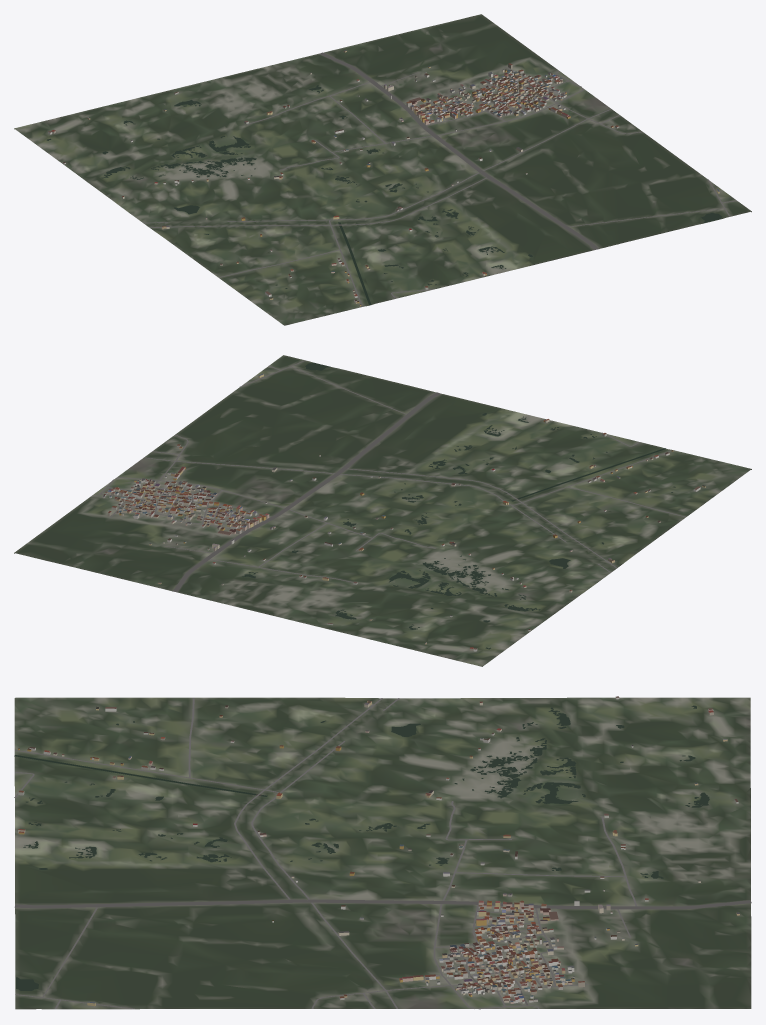
The picture shows the model from 3 angles, top to bottom: view 1: azimuth 30°, elevation 25°; view 2: azimuth 150°, elevation 25°; view 3: azimuth 270°, elevation 25°; orthographic projection. The views are drawn at different scales.
Parts seen in each view (by area): view 1: ground, buildings, roads, water; view 2: ground, buildings, roads, water; view 3: ground, buildings, roads, water.
Boxes of the visible parts, bbox=[...] form: ground: bbox=[14, 14, 751, 325]; buildings: bbox=[48, 50, 719, 306]; roads: bbox=[143, 52, 736, 306]; water: bbox=[46, 85, 722, 305]; ground: bbox=[14, 355, 751, 666]; buildings: bbox=[102, 374, 705, 651]; roads: bbox=[92, 360, 686, 591]; water: bbox=[242, 362, 675, 649]; ground: bbox=[14, 697, 751, 1009]; buildings: bbox=[18, 696, 739, 1006]; roads: bbox=[14, 697, 751, 1009]; water: bbox=[14, 705, 709, 990].
Bounding box in the file's own units: 1406 × 19.92 × 1406.
